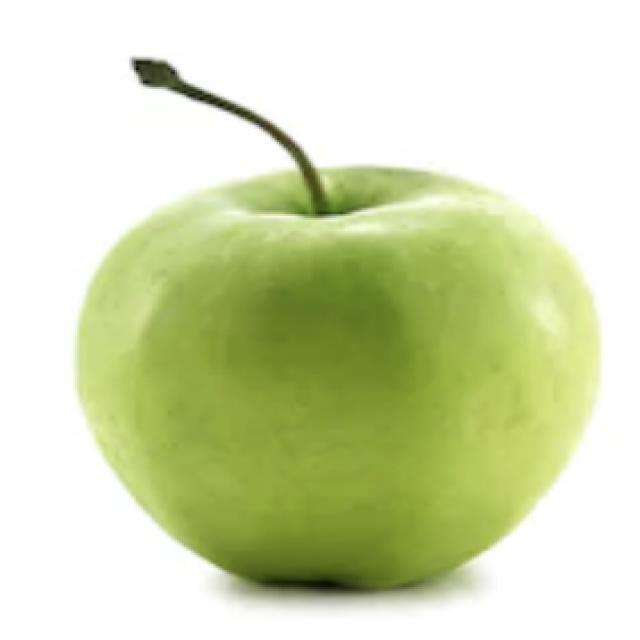Fresh Apple: (103, 162, 595, 590)
